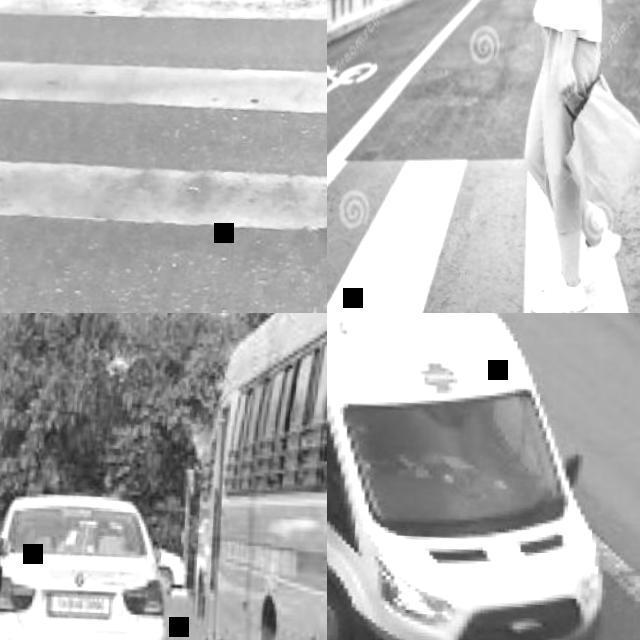car: (322, 310, 606, 639), (1, 491, 192, 638)
